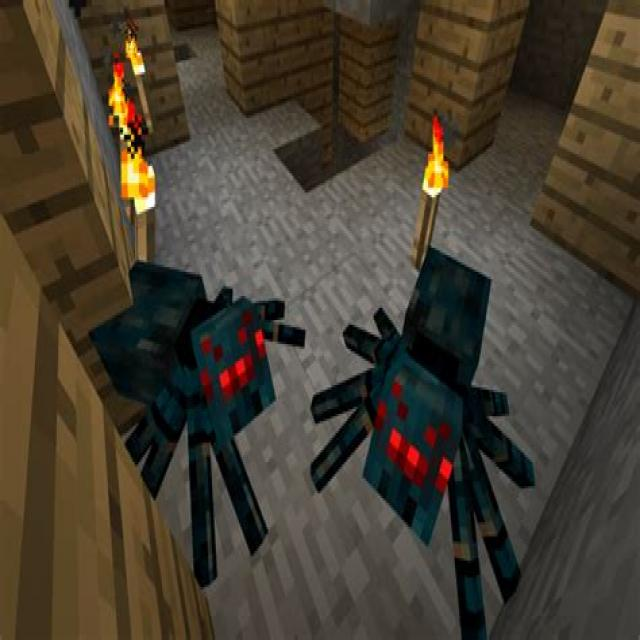Cave Spider: (310, 245, 538, 640), (80, 248, 308, 577)
